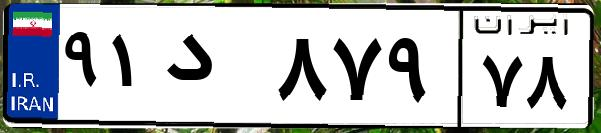1: (110, 28, 158, 98)
7: (330, 28, 385, 110), (475, 38, 525, 113)
8: (270, 28, 330, 110), (525, 38, 570, 115)
9: (385, 28, 445, 110), (57, 26, 110, 100)
د: (158, 20, 270, 120)
